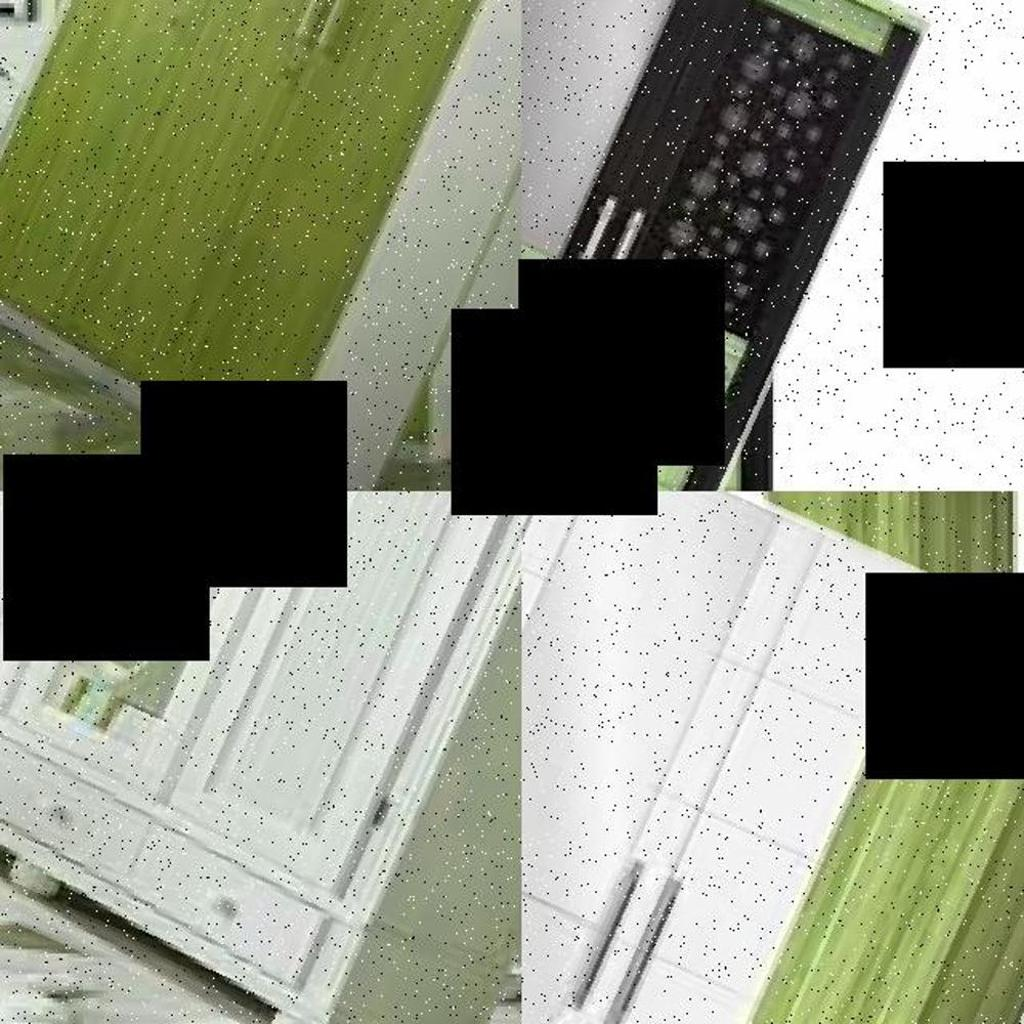cabinet: (0, 491, 522, 1024), (522, 491, 1024, 1024), (0, 0, 522, 491), (522, 0, 858, 491)
